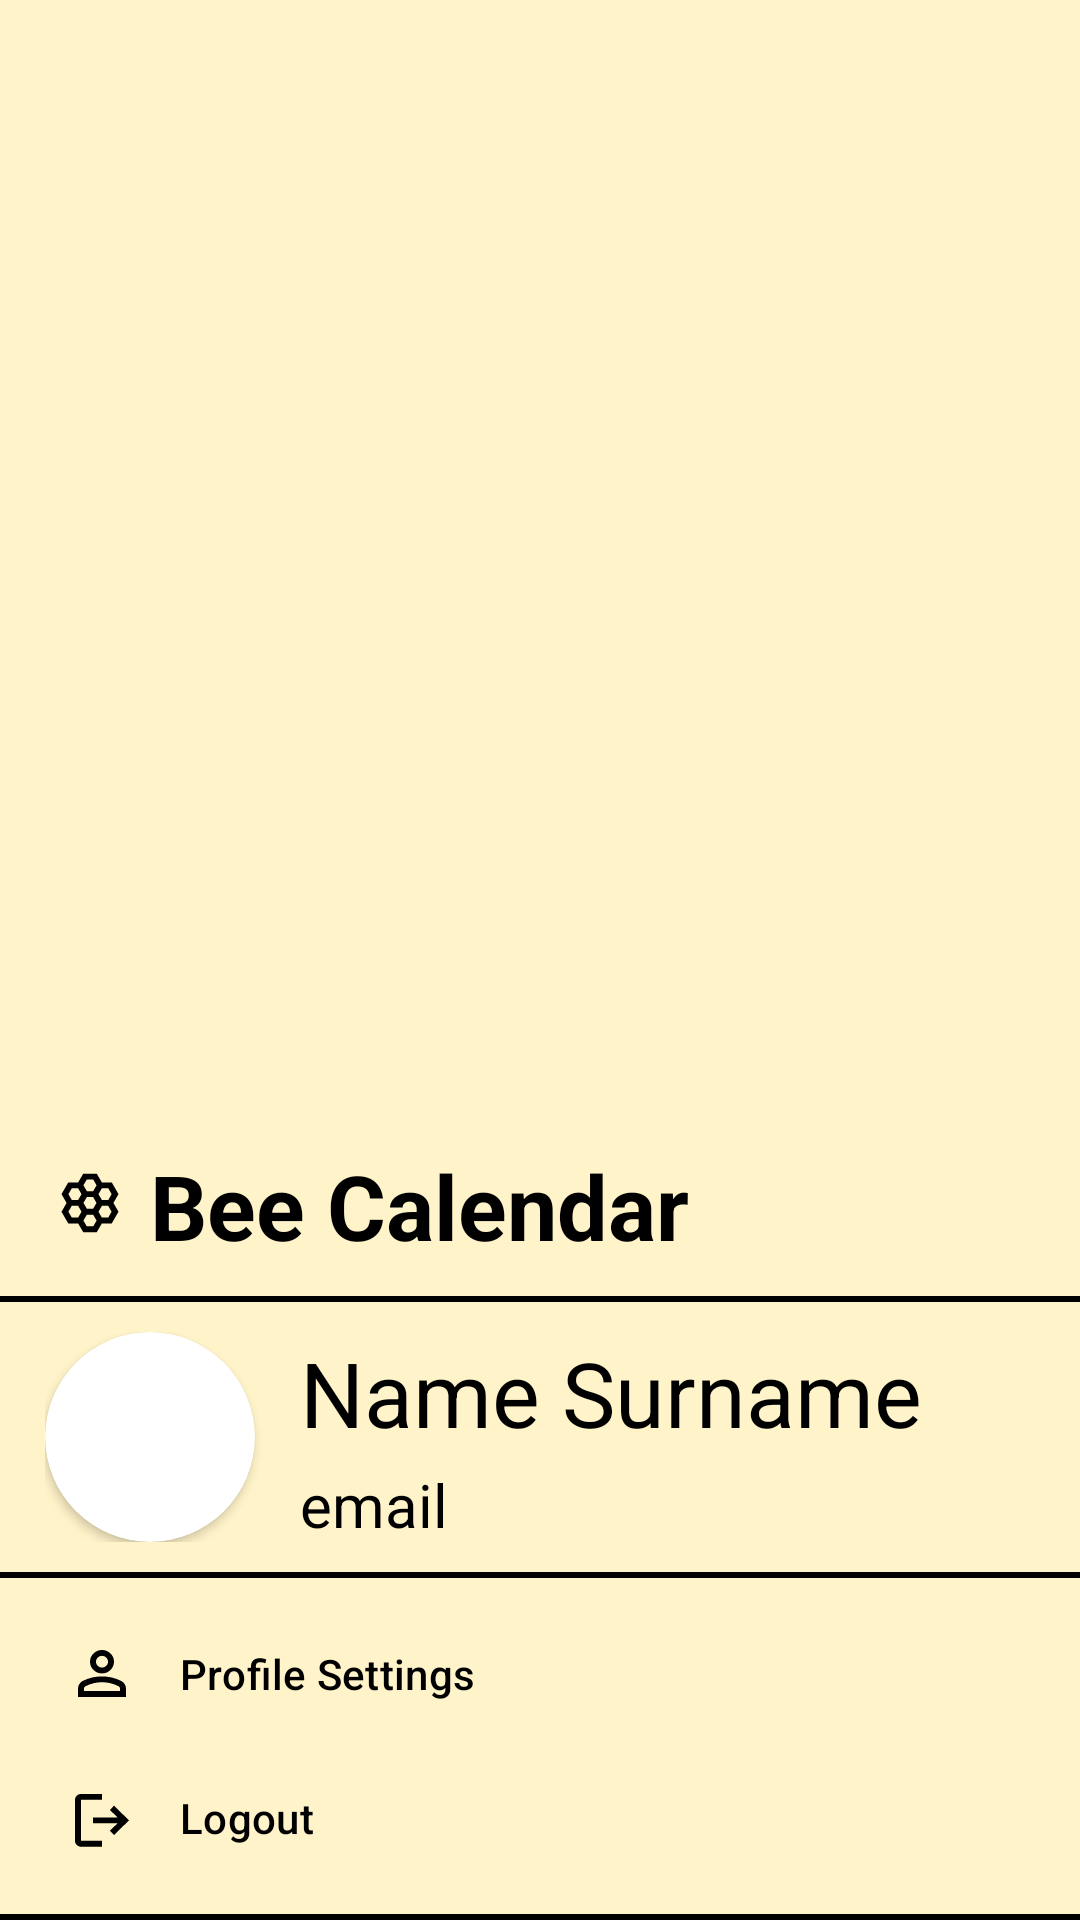

Icon bounding boxes for this 1080x1920 phone screenshot, format (x1, y1, x2, y2):
honeycomb: (61, 1173, 119, 1233)
